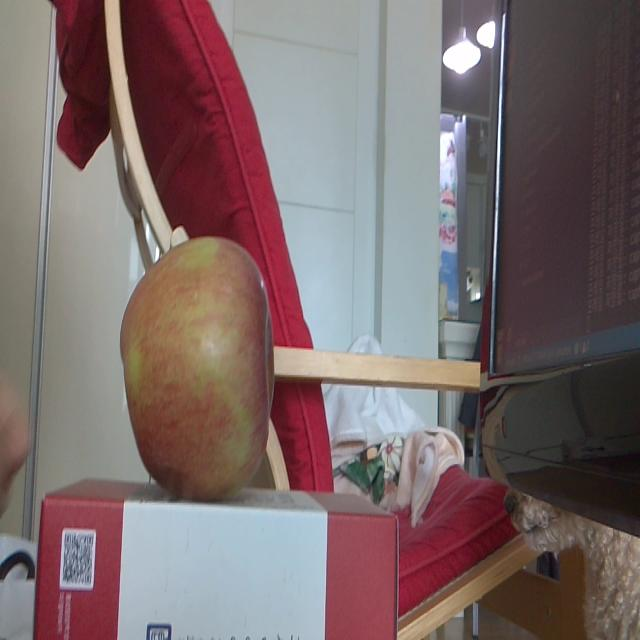apple: (115, 228, 281, 494)
